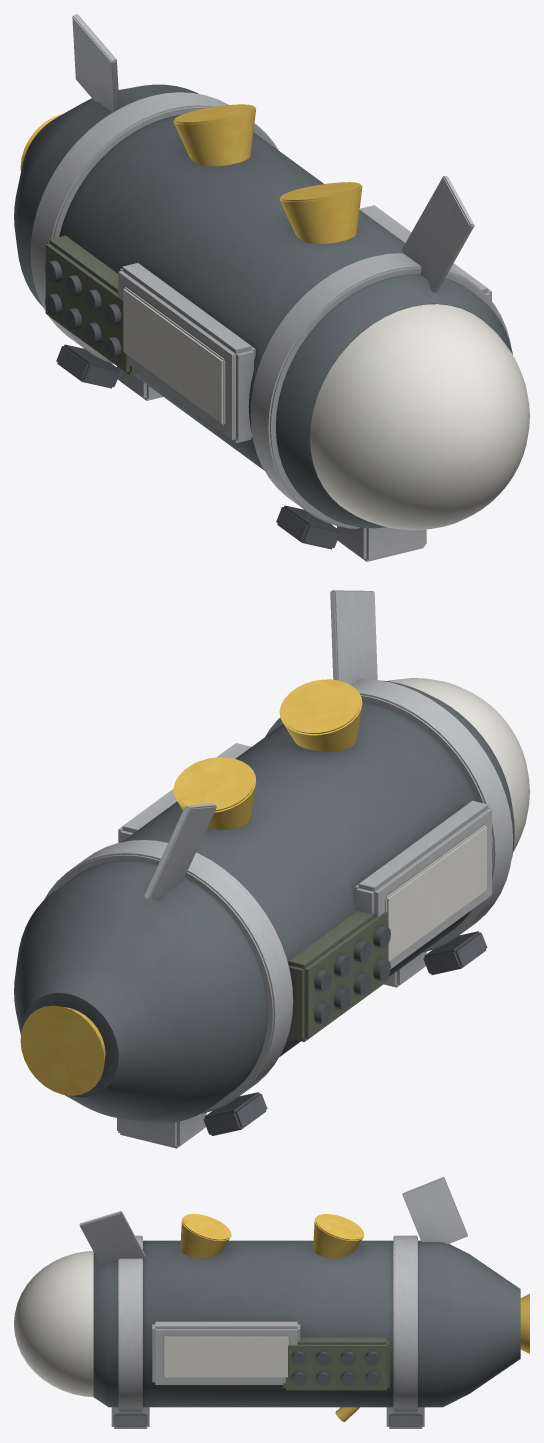
The model's file is att_ecm_pod.glb.
3 renders of one model, top to bottom at view 1: azimuth 30°, elevation 25°; view 2: azimuth 150°, elevation 25°; view 3: azimuth 270°, elevation 25°, orthographic. The views are drawn at different scales.
Parts seen in each view (by area): view 1: TEX_ECM_Pod_Mesh; view 2: TEX_ECM_Pod_Mesh; view 3: TEX_ECM_Pod_Mesh.
Part boxes in pixels (x1,y1,x2,y2): TEX_ECM_Pod_Mesh: [14, 14, 529, 561]; TEX_ECM_Pod_Mesh: [14, 590, 529, 1148]; TEX_ECM_Pod_Mesh: [14, 1177, 529, 1428].
Size of the model in its own units: 1.05 by 1.32 by 2.72.
Materials: 1 (1 with a texture image).
